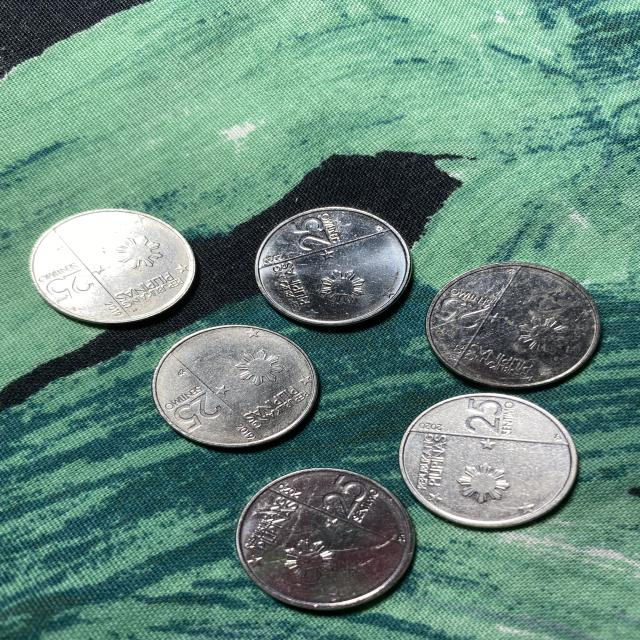25Cent_New_Front: (315, 473, 369, 518), (173, 394, 224, 432), (437, 297, 488, 331), (46, 270, 99, 302), (289, 217, 335, 250), (462, 398, 503, 435)
